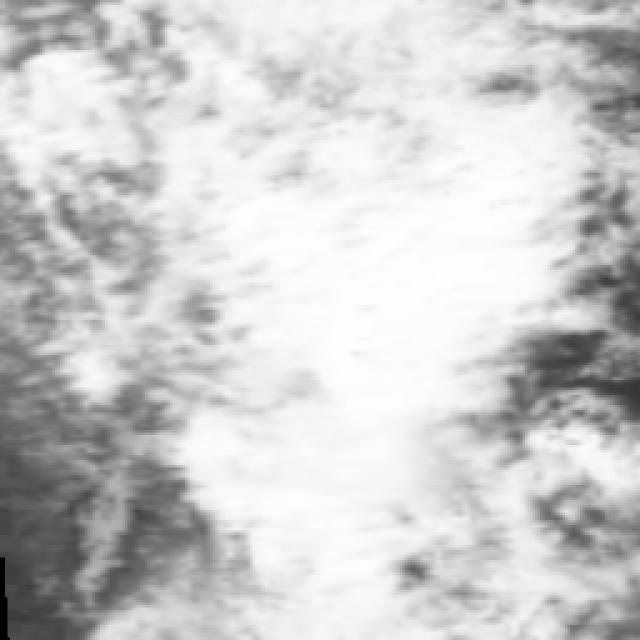CB: (274, 188, 512, 350), (227, 434, 399, 531)
